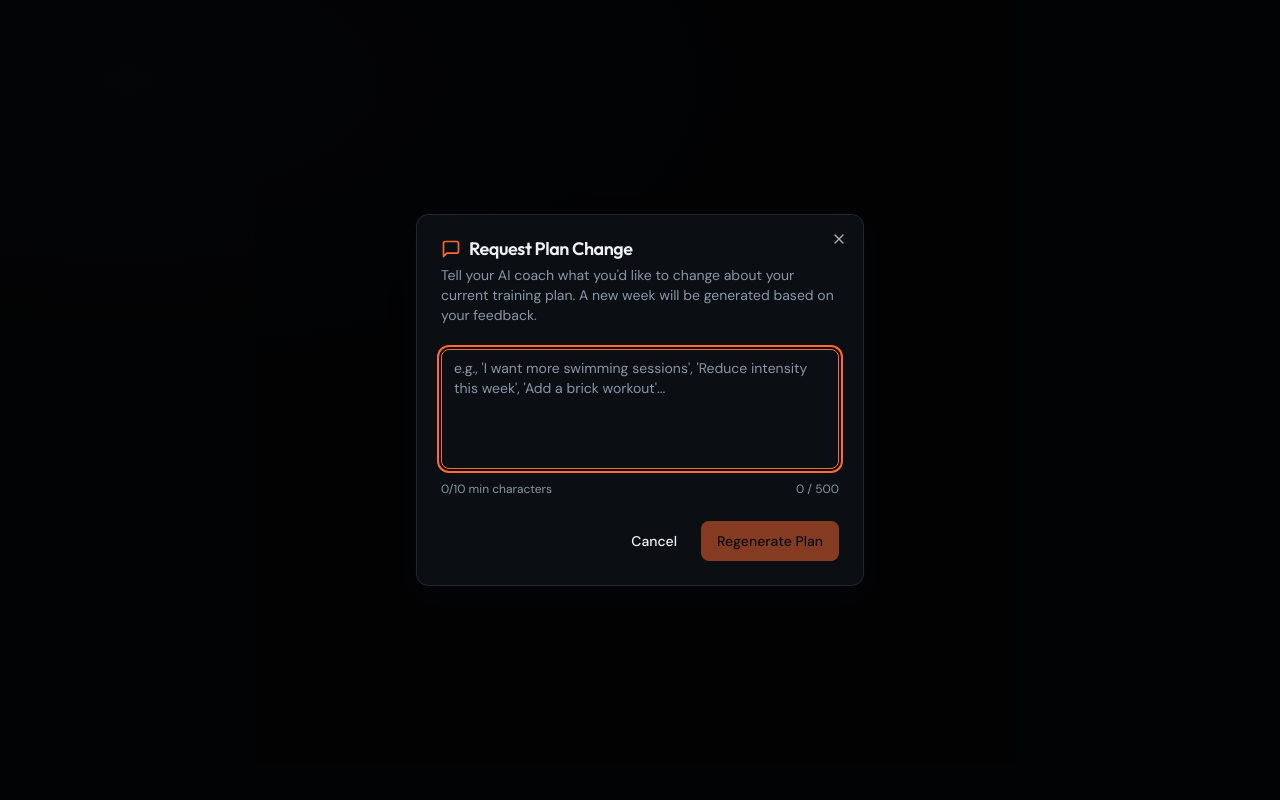
Test case: RegeneratePlanDialog — Phase 1.E.3 input cap + counter › renders a live X / 500 counter that reflects the current value
This screenshot has width=1280, height=800.
Replace the text in the text box with "hello world" at coordinates (640, 409), box 441,349 -> 839,469
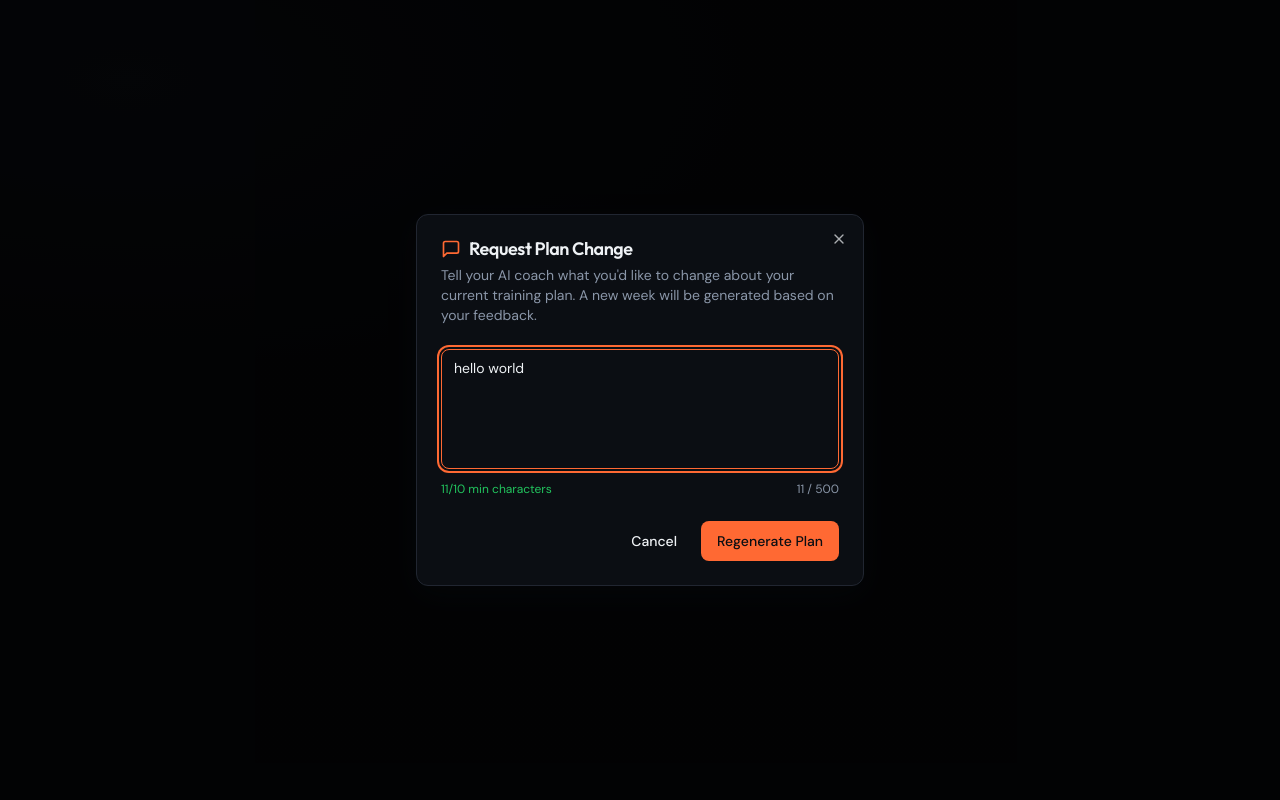
Result: the text "11 / 500" is shown at 797,481 -> 839,497
